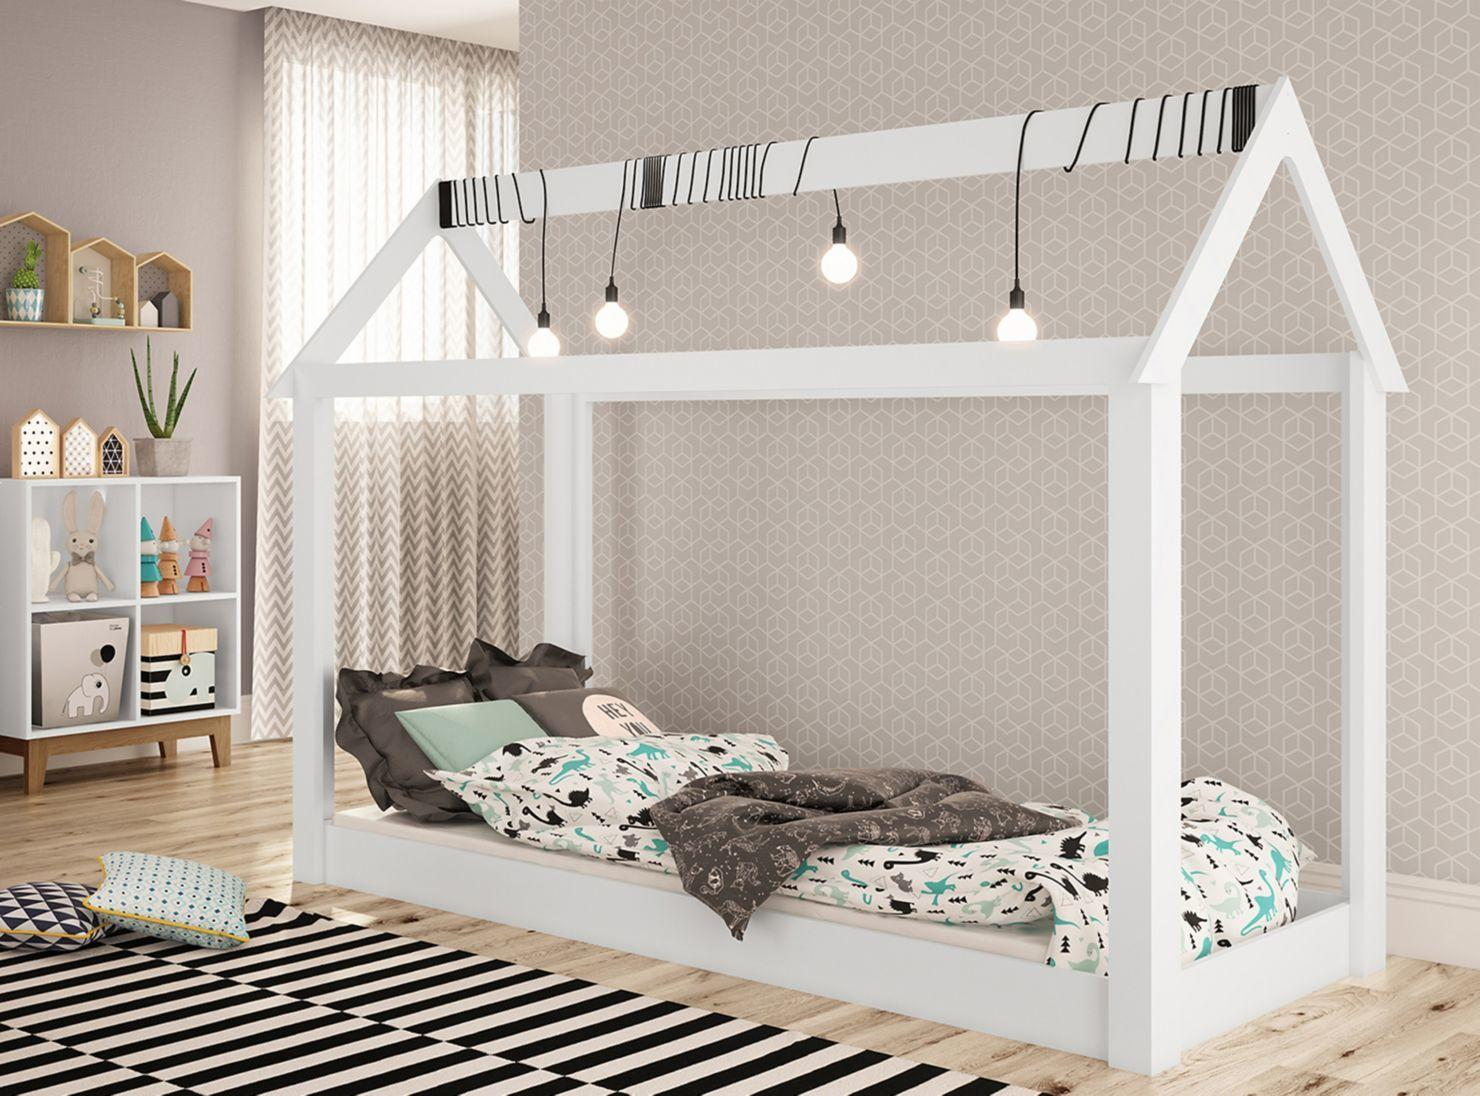bed: (403, 610, 1192, 1063)
